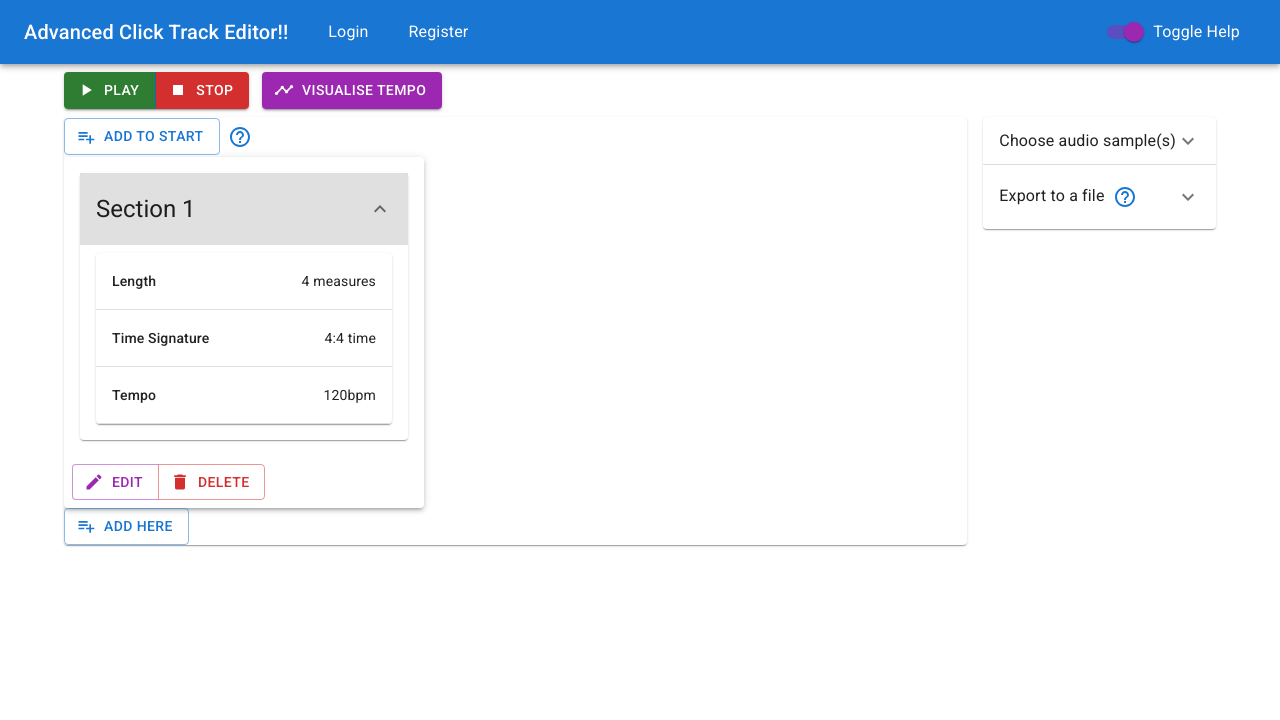
it: Clicktrack app › User can open form to edit section
Click the button with class "edit-section-button".
click(116, 483)  # box [72, 464, 159, 501]
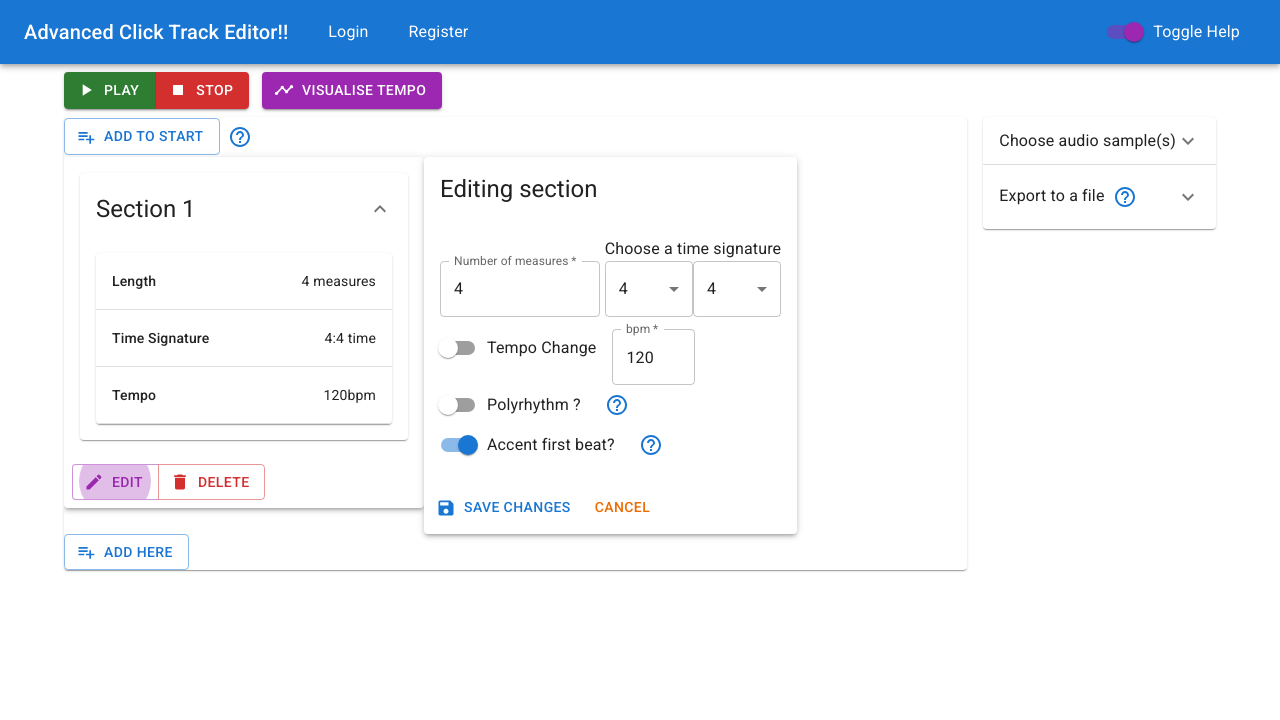
Check: the text "Editing section" is shown, box [440, 174, 598, 202]
